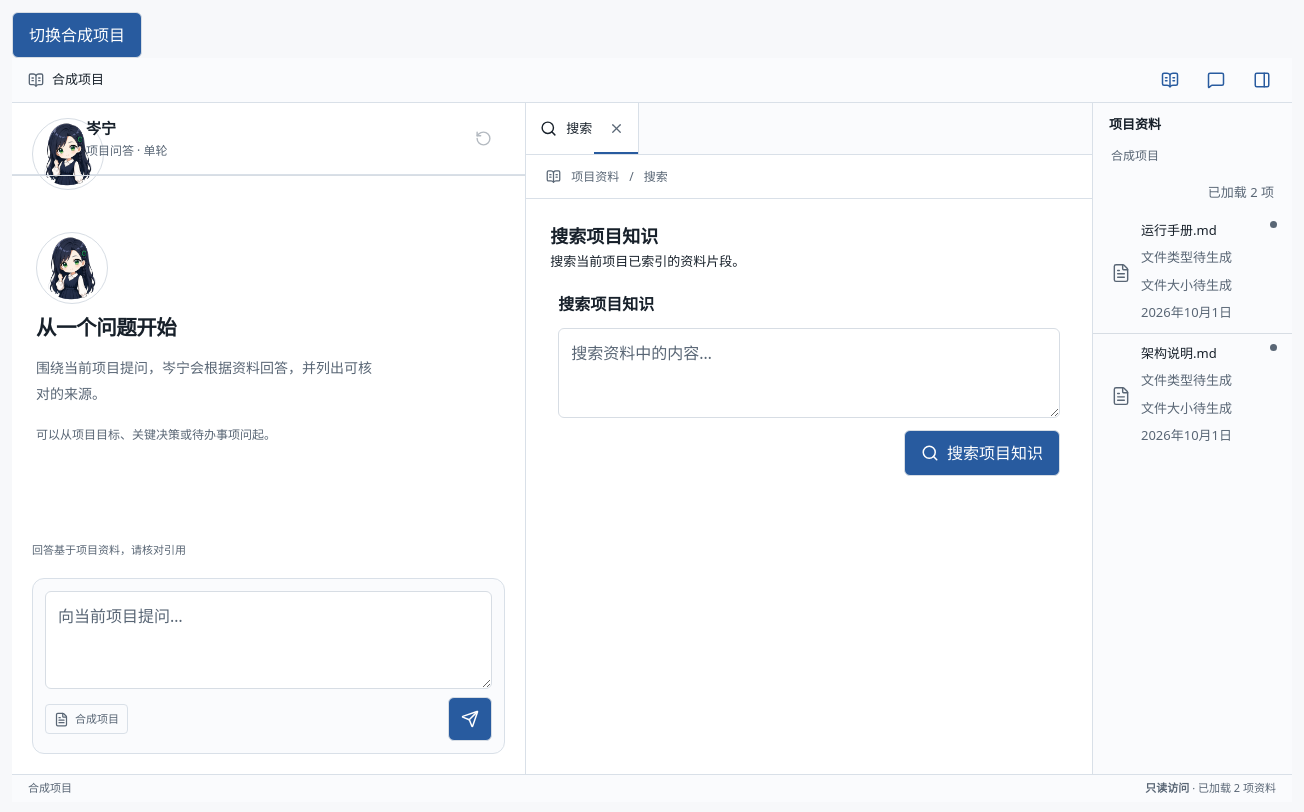
it: layout controls remain reachable and keep a main pane open
The image size is (1304, 812).
Click the button named "收起阅读区". click: (1262, 80)
box: [1240,58,1284,102]
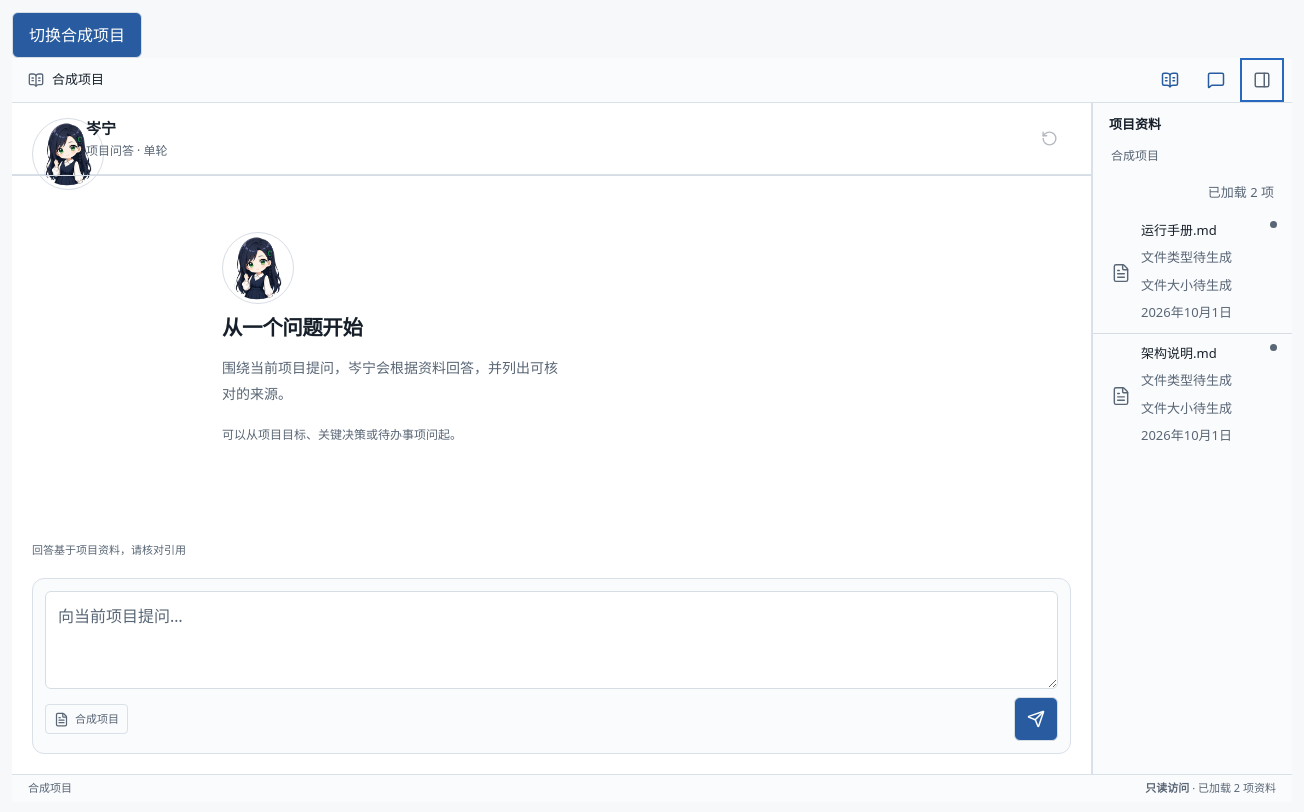
Click the button named "收起助手". click: (1216, 80)
box: [1194,58,1238,102]
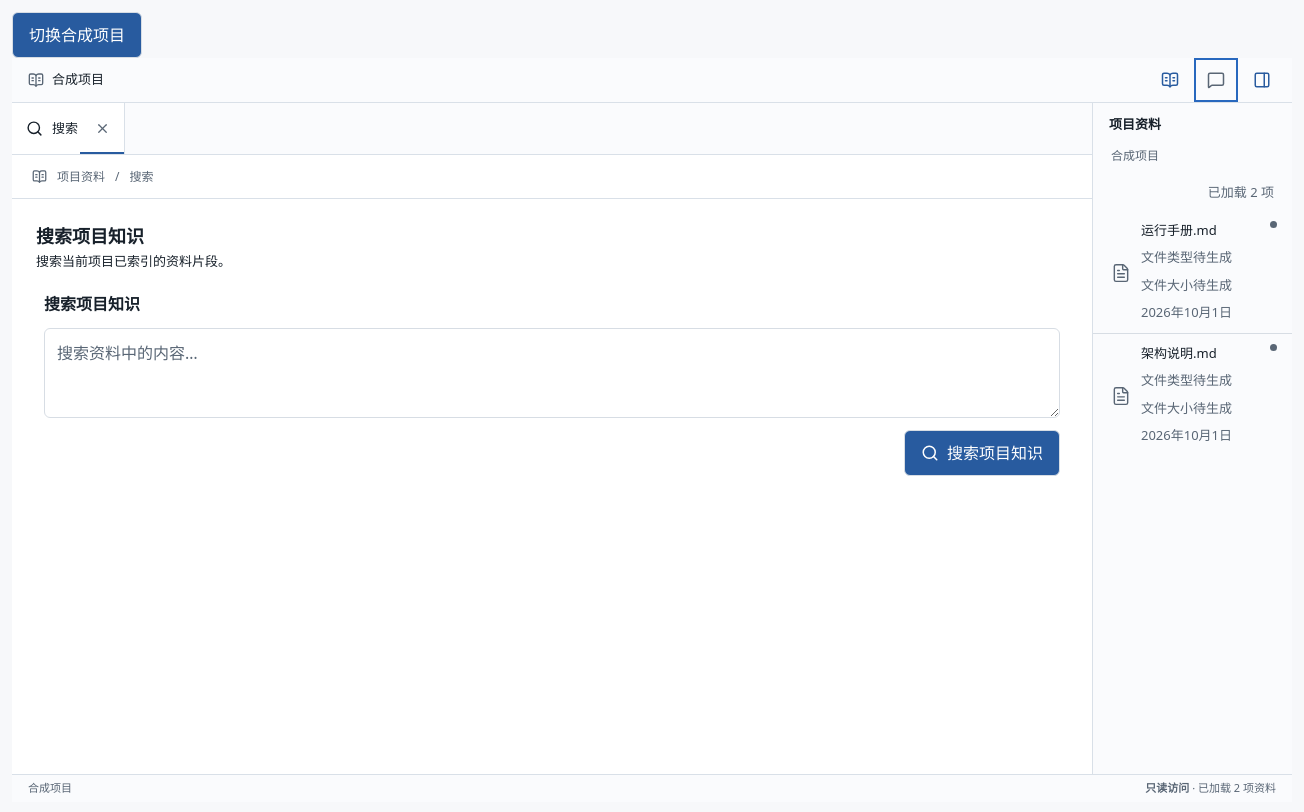
Expected: the element "岑宁问答面板" is gone
Expected: the element named "知识内容" is shown
Click the button named "收起阅读区". click: (1262, 80)
box: [1240,58,1284,102]
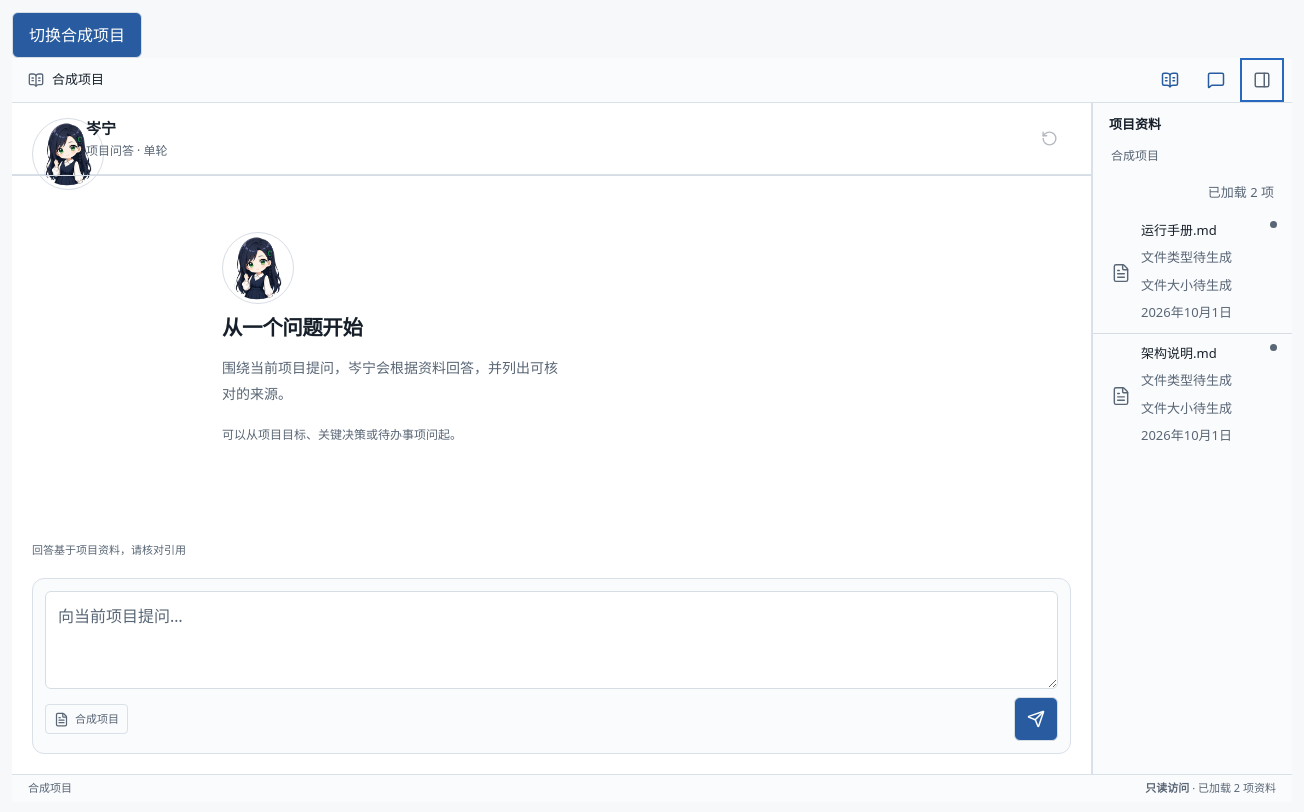
Expected: the element "知识内容" is gone
Expected: the element named "岑宁问答面板" is shown
Click the button named "展开阅读区". click: (1262, 80)
box: [1240,58,1284,102]
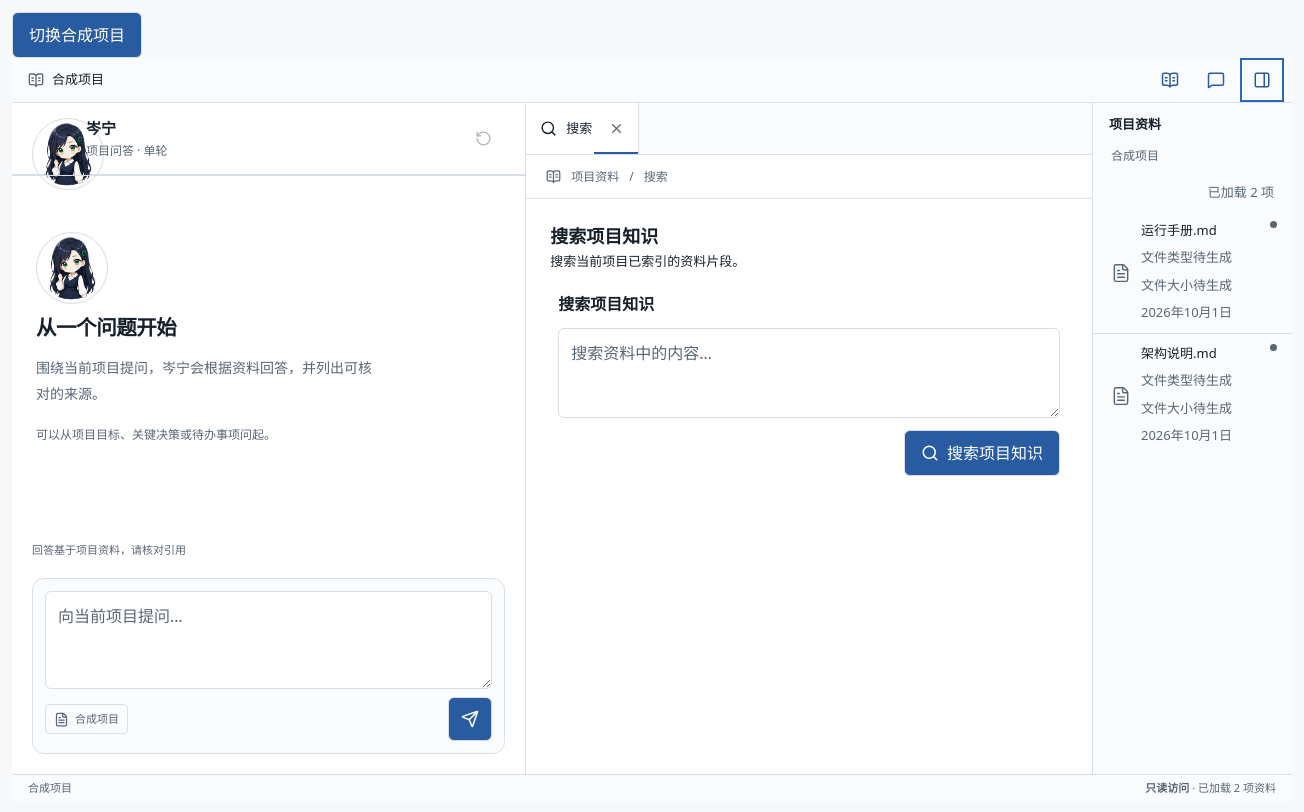
Expected: the element named "知识内容" is shown, [526,103,1092,774]
